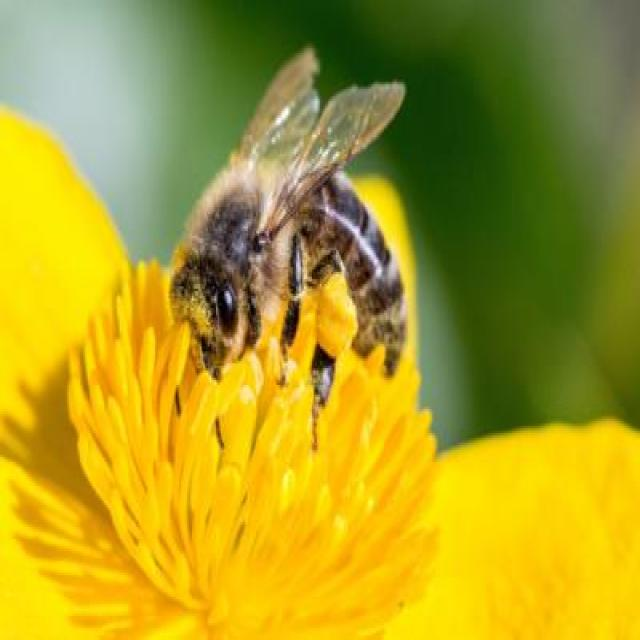antennae: (207, 371, 230, 450), (170, 317, 185, 422)
body: (170, 160, 407, 386)
insect: (162, 46, 417, 444)
legs: (305, 249, 348, 446), (278, 227, 309, 392), (242, 278, 270, 382)
mouthpart: (191, 340, 231, 386)
wings: (257, 80, 405, 244), (220, 49, 324, 182)
